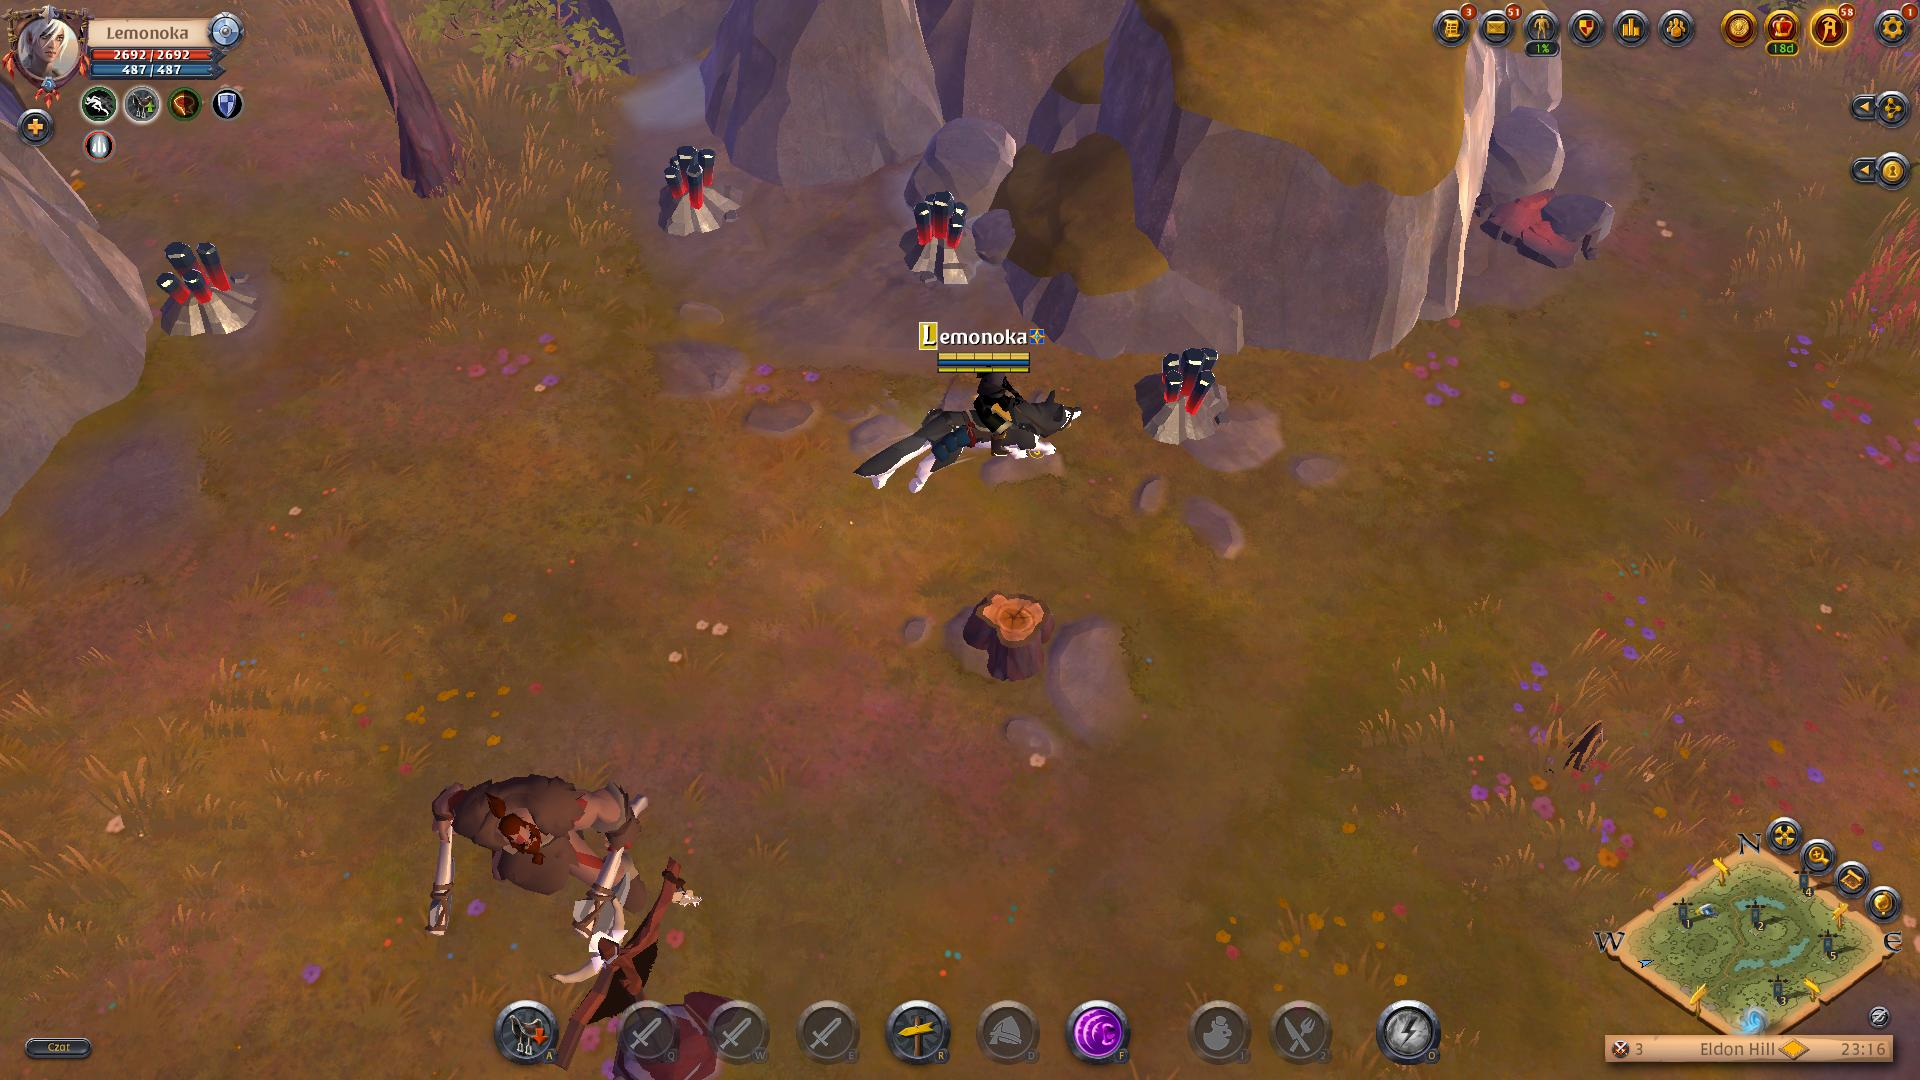ore tier 5: (146, 239, 258, 342), (1129, 347, 1238, 444), (645, 144, 744, 241), (895, 187, 984, 293)
